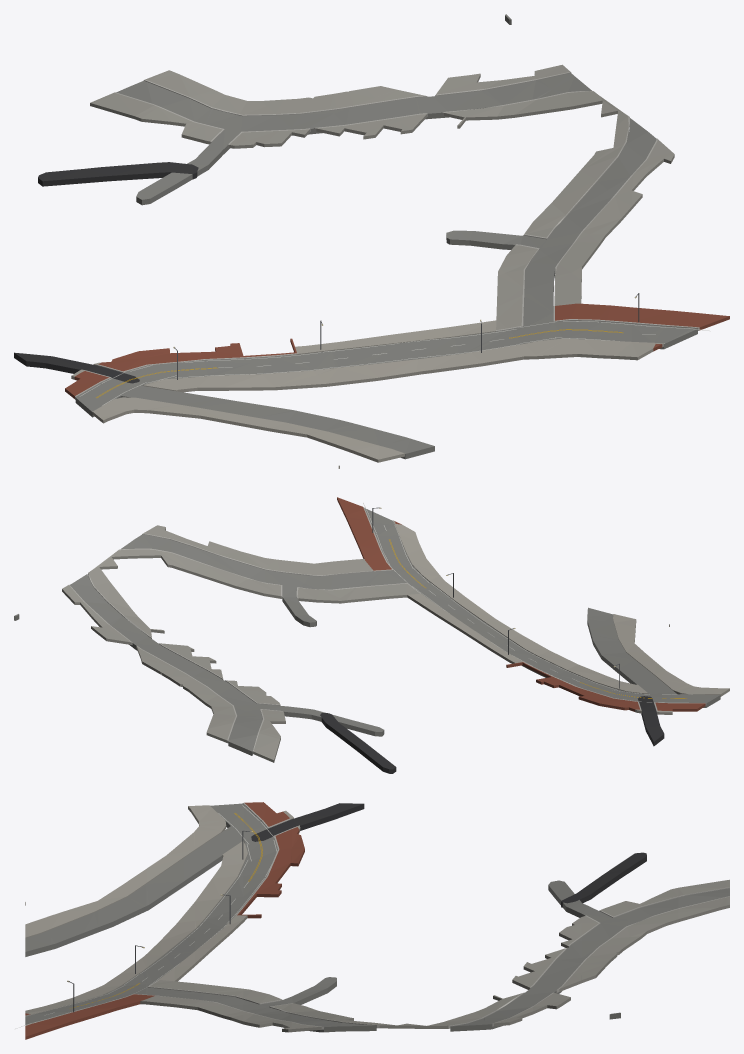
3 views of the same model, one above another, from view 1: azimuth 30°, elevation 25°; view 2: azimuth 150°, elevation 25°; view 3: azimuth 270°, elevation 25° (orthographic). The views are drawn at different scales.
Size of the model in its own units: 147 by 28.42 by 148.
